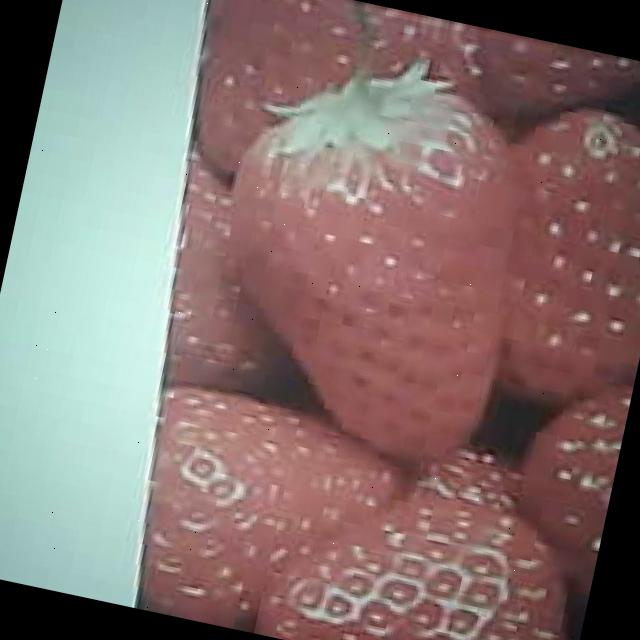strawberry: (189, 54, 550, 467)
